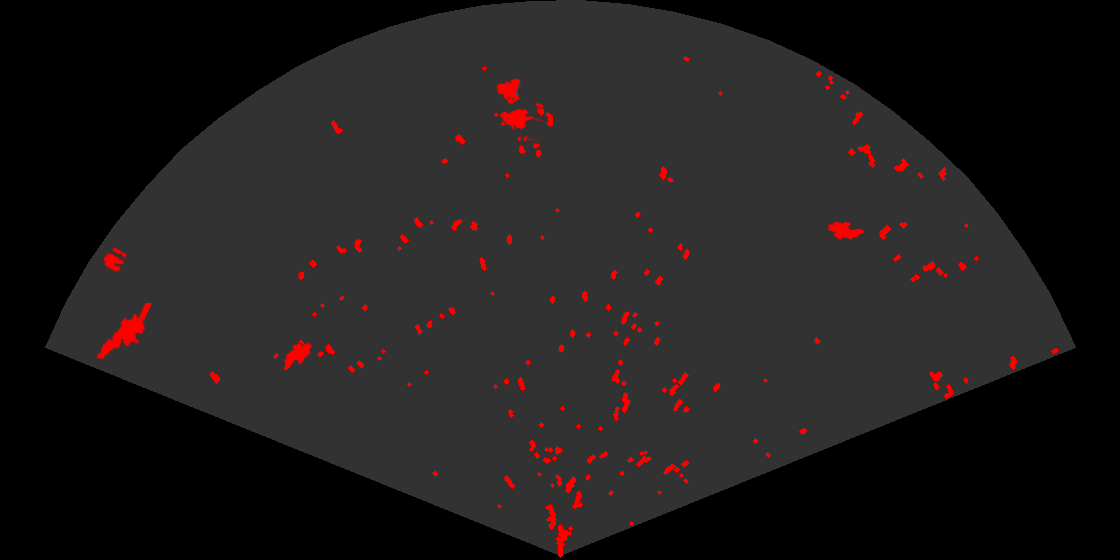AUV: (282, 341, 314, 372), (826, 220, 866, 241)
ball: (102, 246, 129, 274)
cage: (492, 77, 543, 141)
frogman: (95, 303, 154, 361)
